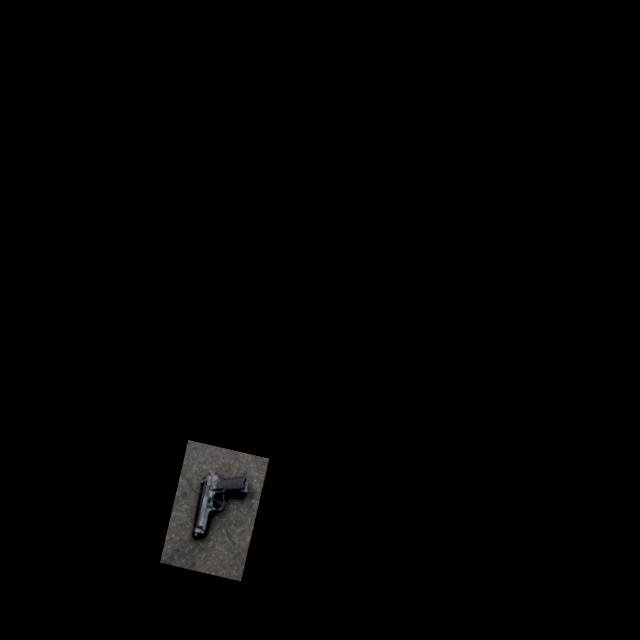handgun: (85, 532, 119, 569)
